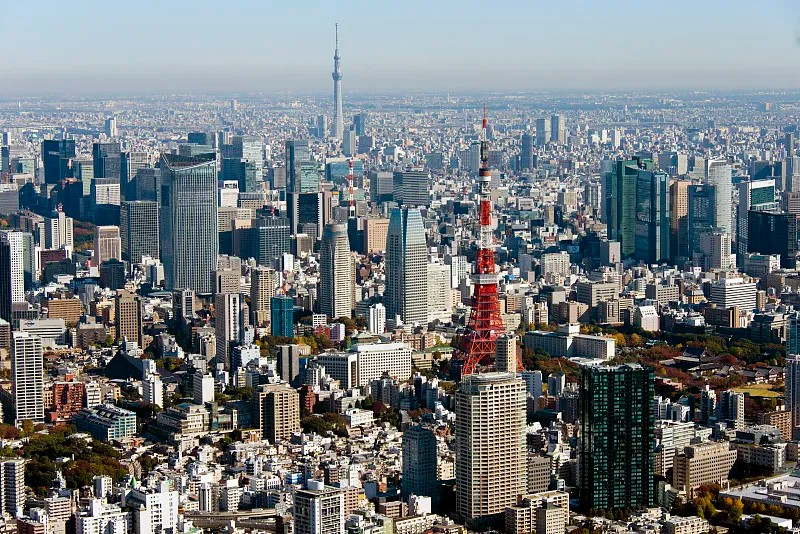Tokyo: (460, 102, 499, 373)
